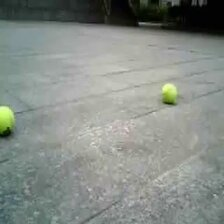tennis: (1, 103, 16, 137), (161, 83, 177, 102)
